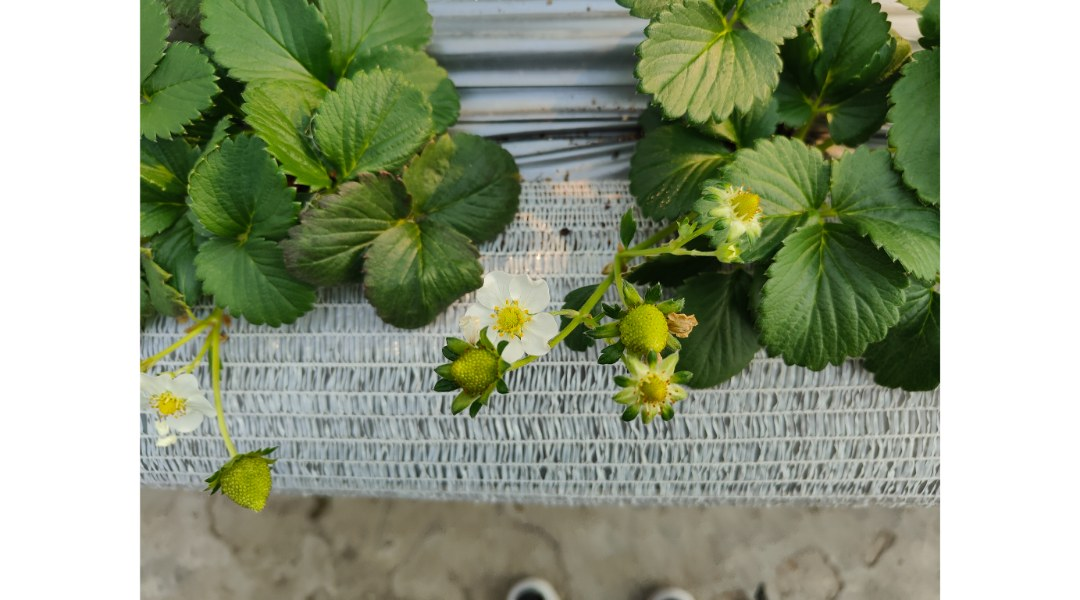berry: (619, 306, 673, 354), (451, 351, 502, 395)
flower: (476, 271, 556, 363), (619, 358, 689, 430), (701, 177, 772, 247)
strain: (584, 268, 608, 316), (679, 242, 715, 259), (670, 227, 705, 241), (631, 248, 670, 254)
